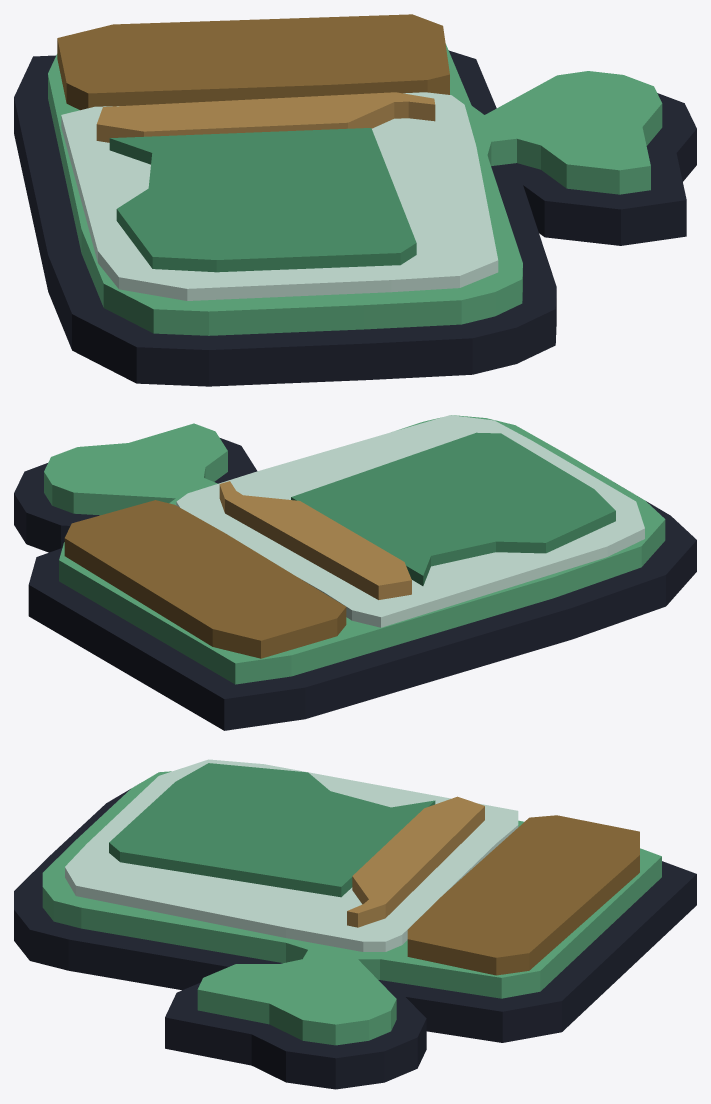
Rendered from sandworm_juice.fbx.
The picture shows the model from 3 angles, top to bottom: view 1: azimuth 30°, elevation 25°; view 2: azimuth 150°, elevation 25°; view 3: azimuth 270°, elevation 25°; orthographic projection. The views are drawn at different scales.
Visible parts, largest first — view 1: sandworm_juice; view 2: sandworm_juice; view 3: sandworm_juice.
Boxes of the visible parts, x1,y1,x2,y2 form: sandworm_juice: (14,14,696,386); sandworm_juice: (14,415,696,730); sandworm_juice: (14,759,696,1089).
Size of the model in its own units: 1.16 by 0.1473 by 1.19.
1 material, 1 textured.
